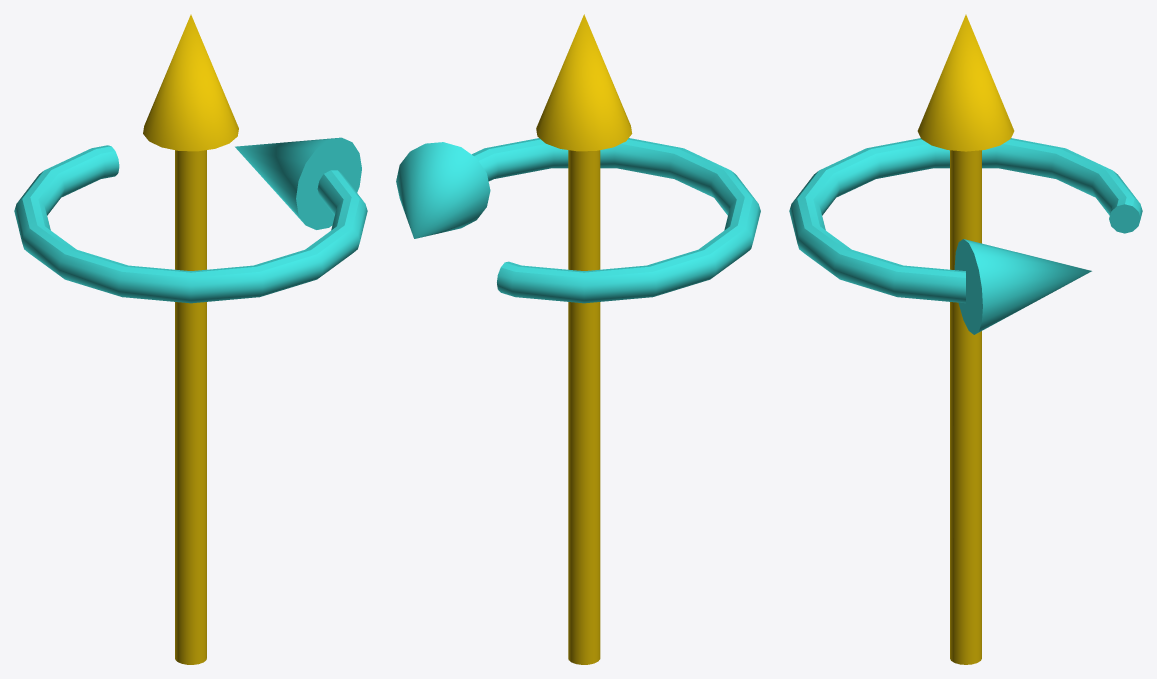
File: planet_gizmo.fbx
The picture shows the model from 3 angles, left to right: view 1: azimuth 30°, elevation 25°; view 2: azimuth 150°, elevation 25°; view 3: azimuth 270°, elevation 25°; orthographic projection.
Visible parts, largest first — view 1: horizontal Gizmo, vertical Gizmo; view 2: horizontal Gizmo, vertical Gizmo; view 3: horizontal Gizmo, vertical Gizmo.
Part boxes in pixels (x1,y1,x2,y2): horizontal Gizmo: (14,137,367,303); vertical Gizmo: (143,14,238,664); horizontal Gizmo: (396,138,760,303); vertical Gizmo: (536,14,632,664); horizontal Gizmo: (789,138,1142,334); vertical Gizmo: (917,14,1014,664).
Bounding box in the file's own units: 59 × 110 × 54.7.
